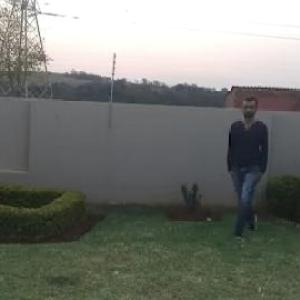follow: (214, 100, 268, 221)
